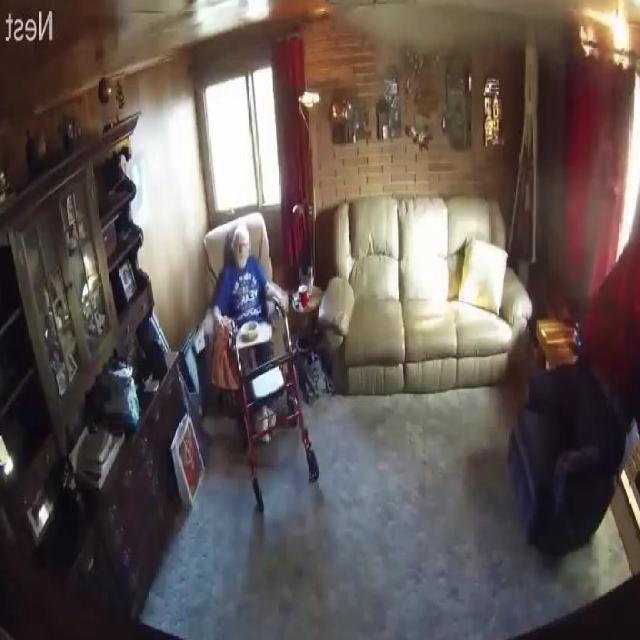fire: (328, 0, 567, 66)
smoke: (580, 0, 631, 67)
